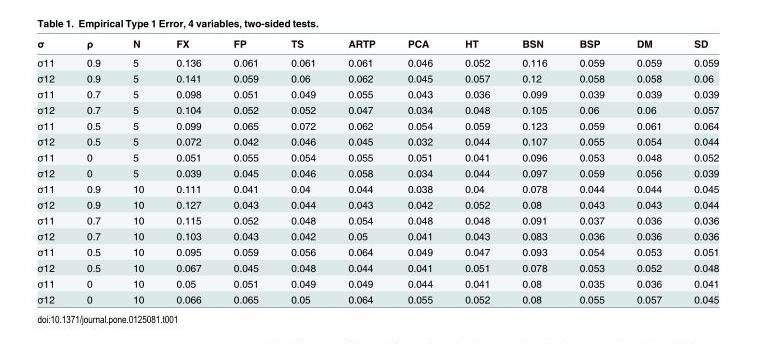table: (36, 37, 718, 304)
table column: (331, 37, 390, 304), (216, 37, 274, 304), (390, 37, 448, 304), (619, 37, 677, 304), (159, 37, 216, 304), (274, 37, 331, 304), (448, 37, 505, 304), (505, 37, 562, 304), (562, 37, 619, 304), (69, 37, 116, 304), (116, 37, 159, 304), (677, 37, 718, 304), (36, 37, 69, 304)
table column header: (36, 37, 718, 52)
table row: (36, 52, 718, 70), (36, 85, 718, 101), (36, 101, 718, 117), (36, 117, 718, 133), (36, 148, 718, 164), (36, 164, 718, 180), (36, 180, 718, 196), (36, 196, 718, 212), (36, 227, 718, 243), (36, 243, 718, 259), (36, 259, 718, 275), (36, 37, 718, 52), (36, 70, 718, 85), (36, 133, 718, 148), (36, 212, 718, 227), (36, 275, 718, 290), (36, 290, 718, 304)
